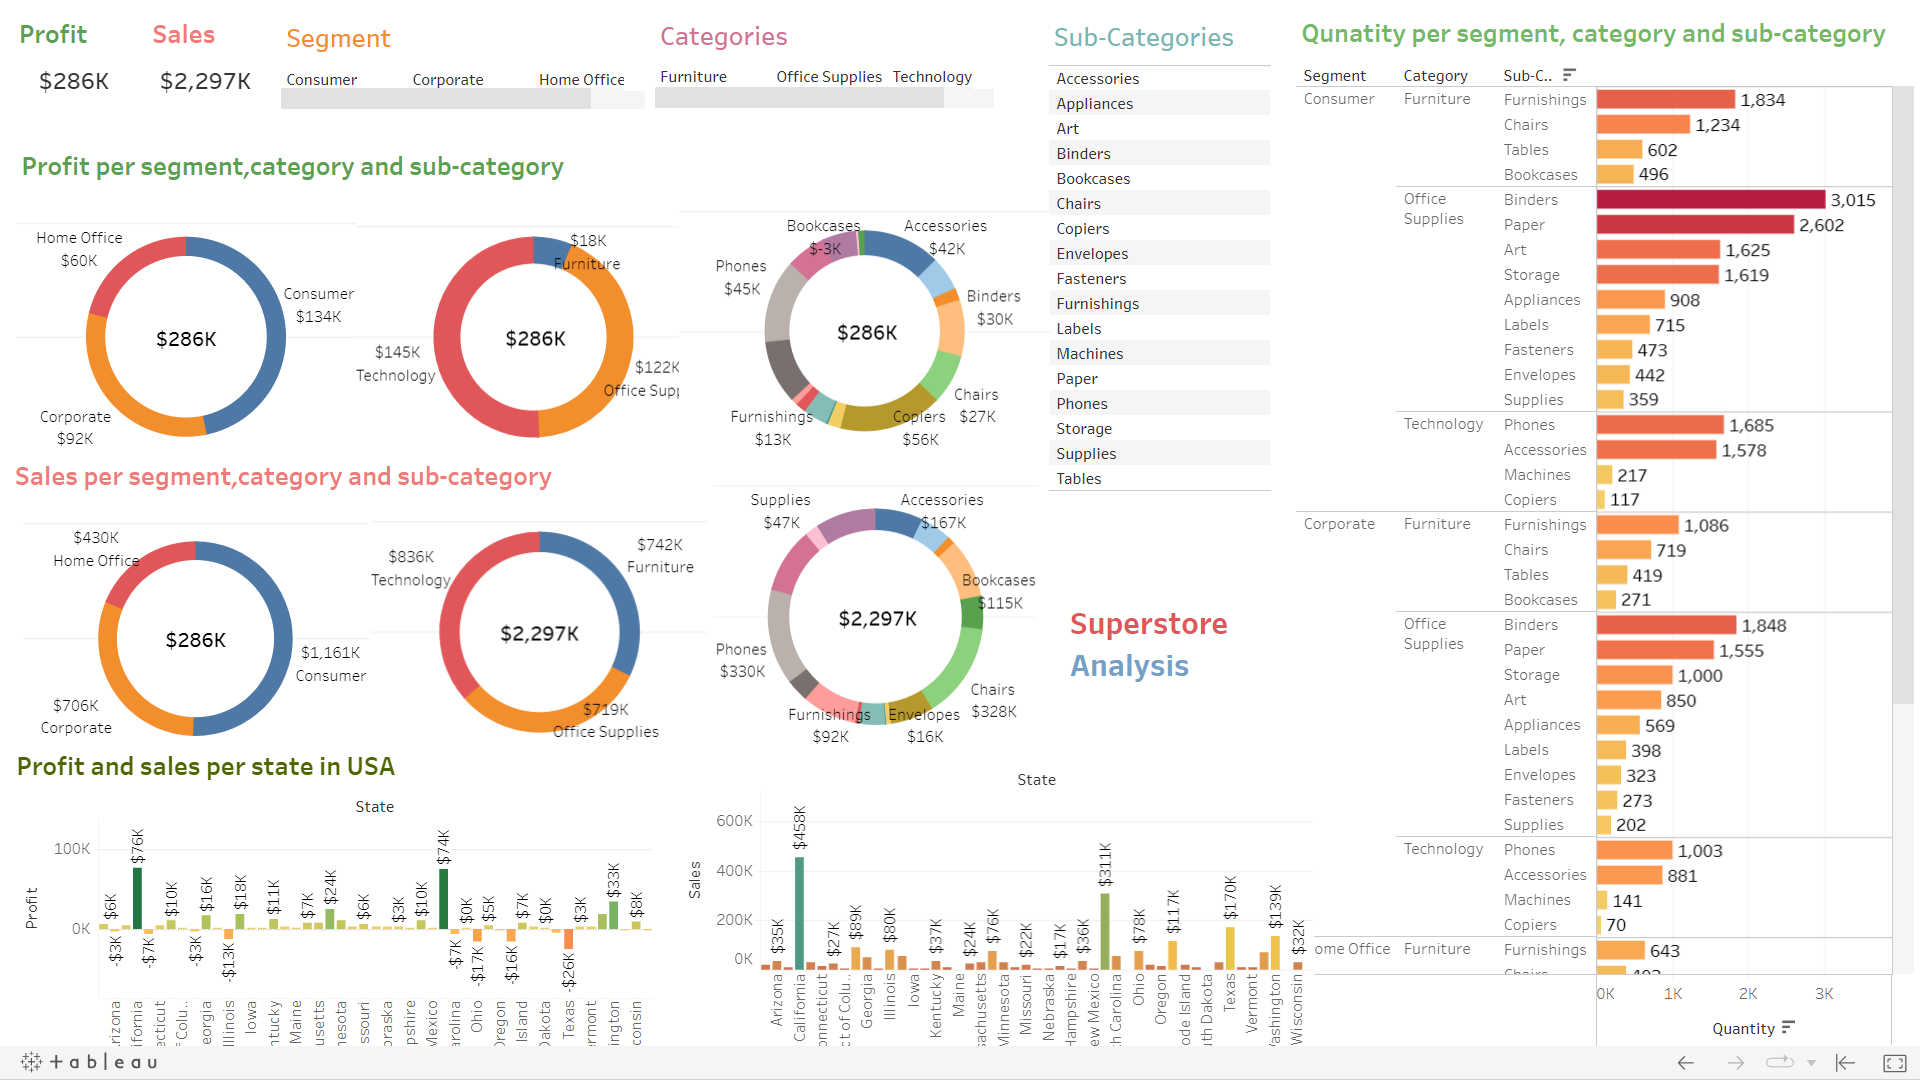

The page's visual inventory and layout, read from the dashboard file:
{"tool":"tableau","page":{"name":"Dashboard 1","canvas":[1000,1000],"units":"permille","ordinal":0},"visuals":[{"type":"worksheet","title":"Sheet 6","mark":"Automatic","rows":["Segment","Category","Sub-Category"],"cols":["Quantity"],"box":[675,7,322.5,993]},{"type":"worksheet","title":"Sheet 4","mark":"Automatic","box":[7.3,8.2,59.2,108.1]},{"type":"worksheet","title":"Sheet 5","mark":"Automatic","box":[68.4,8.2,73.9,114]},{"type":"worksheet","title":"Sheet 2","mark":"Automatic","cols":["Category"],"box":[340.9,9.4,176.5,92.8]},{"type":"worksheet","title":"Sheet 3","mark":"Automatic","rows":["Sub-Category"],"box":[546.1,10.6,123.4,524.1]},{"type":"worksheet","title":"Sheet 1","mark":"Automatic","cols":["Segment"],"box":[146.6,11.8,189.4,91.7]},{"type":"text","box":[11,122.2,339.7,71.7]},{"type":"worksheet","title":"Sheet 9","mark":"Pie","rows":["Calculation_759138066381049857","Calculation_759138066381049857"],"box":[353.7,184.5,193,245.6]},{"type":"worksheet","title":"Sheet 7","mark":"Pie","rows":["Calculation_759138066381049857","Calculation_759138066381049857"],"box":[8.6,195.1,177.2,235]},{"type":"worksheet","title":"Sheet 8","mark":"Pie","rows":["Calculation_759138066381049857","Calculation_759138066381049857"],"box":[185.7,198.6,184.5,229.1]},{"type":"text","box":[7.9,434.8,332.9,40]},{"type":"worksheet","title":"Sheet 12","mark":"Pie","rows":["Calculation_759138066381049857","Calculation_759138066381049857"],"box":[371.4,445.4,169.2,269.1]},{"type":"worksheet","title":"Sheet 11","mark":"Pie","rows":["Calculation_759138066381049857","Calculation_759138066381049857"],"box":[193.7,480.6,174.7,229.1]},{"type":"worksheet","title":"Sheet 10","mark":"Pie","rows":["Calculation_759138066381049857","Calculation_759138066381049857"],"box":[11.6,481.8,179.6,238.5]},{"type":"text","box":[557.1,553.5,100.8,122.2]},{"type":"text","box":[8.6,712.1,235.8,40]}]}

Visuals, with their boxes on the dashboard's canvas, which has no fixed pixel size, in thousandths of its width and height (x1, y1, x2, y2). These are canvas units, not pixel positions in the 1920x1080 screenshot, which may show the page scaled, cropped or inside an application window:
"Sheet 6" worksheet: box(675, 7, 998, 1000)
"Sheet 4" worksheet: box(7, 8, 66, 116)
"Sheet 5" worksheet: box(68, 8, 142, 122)
"Sheet 2" worksheet: box(341, 9, 517, 102)
"Sheet 3" worksheet: box(546, 11, 670, 535)
"Sheet 1" worksheet: box(147, 12, 336, 104)
text: box(11, 122, 351, 194)
"Sheet 9" worksheet (Pie marks): box(354, 184, 547, 430)
"Sheet 7" worksheet (Pie marks): box(9, 195, 186, 430)
"Sheet 8" worksheet (Pie marks): box(186, 199, 370, 428)
text: box(8, 435, 341, 475)
"Sheet 12" worksheet (Pie marks): box(371, 445, 541, 714)
"Sheet 11" worksheet (Pie marks): box(194, 481, 368, 710)
"Sheet 10" worksheet (Pie marks): box(12, 482, 191, 720)
text: box(557, 554, 658, 676)
text: box(9, 712, 244, 752)
